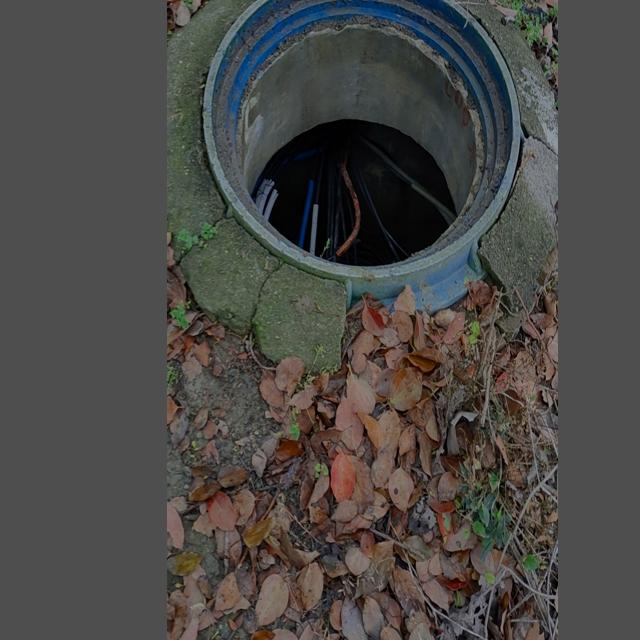lose: (202, 0, 523, 274)
